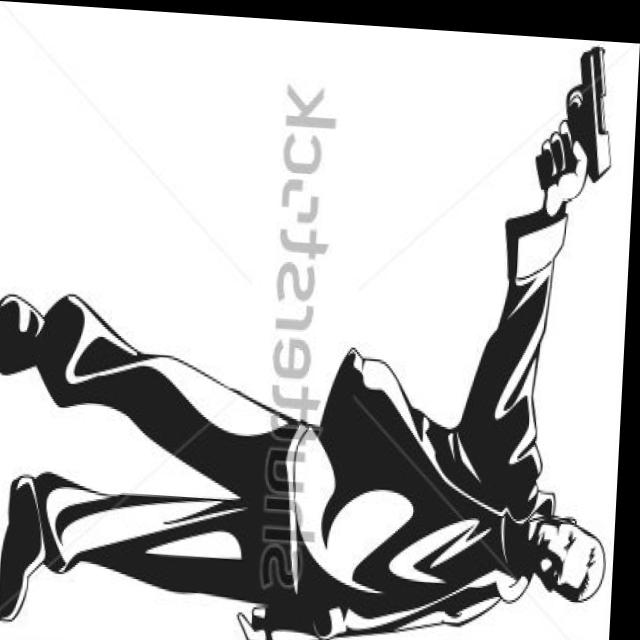handgun: (539, 39, 622, 197)
